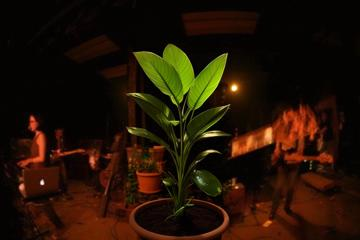person: (269, 137, 305, 221), (46, 128, 74, 201), (18, 114, 48, 171)
pottedplant: (126, 44, 231, 240)
